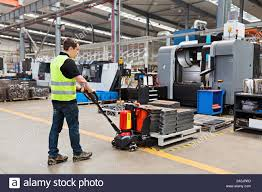Pallet Jack: (78, 86, 202, 153)
